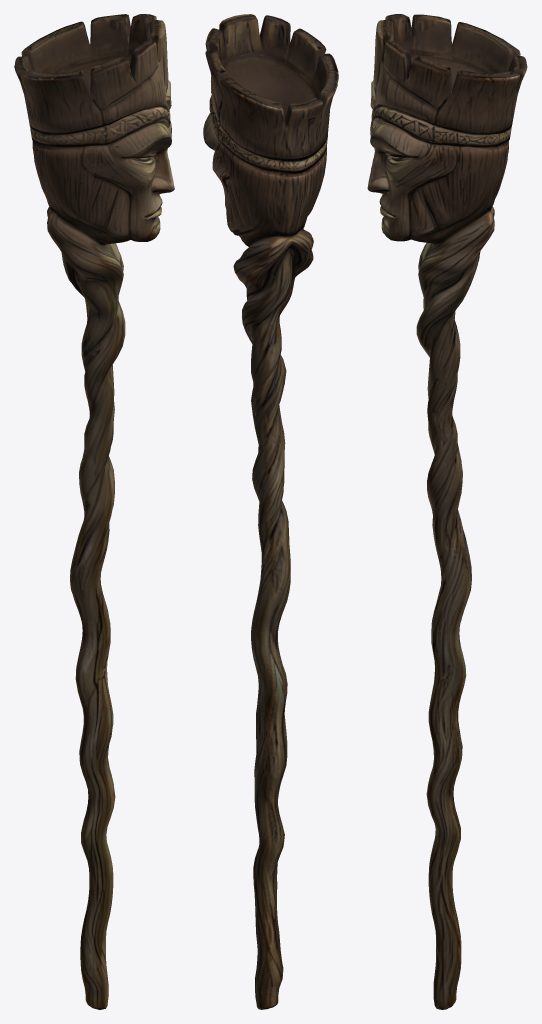
The model's file is tripo_convert_4f98f0e8-3e31-4329-af3e-7ebe161ee329.fbx.
3 renders of one model, left to right at view 1: azimuth 90°, elevation 25°; view 2: azimuth 210°, elevation 25°; view 3: azimuth 270°, elevation 25°, orthographic.
Parts seen in each view (by area): view 1: tripo_node_4f98f0e8; view 2: tripo_node_4f98f0e8; view 3: tripo_node_4f98f0e8.
Part boxes in pixels (x1,y1,x2,y2): tripo_node_4f98f0e8: (14,14,174,1009); tripo_node_4f98f0e8: (203,14,338,1009); tripo_node_4f98f0e8: (367,14,527,1009).
Bounding box in the file's own units: 0.1206 × 0.9995 × 0.1479.
1 material, 1 textured.
